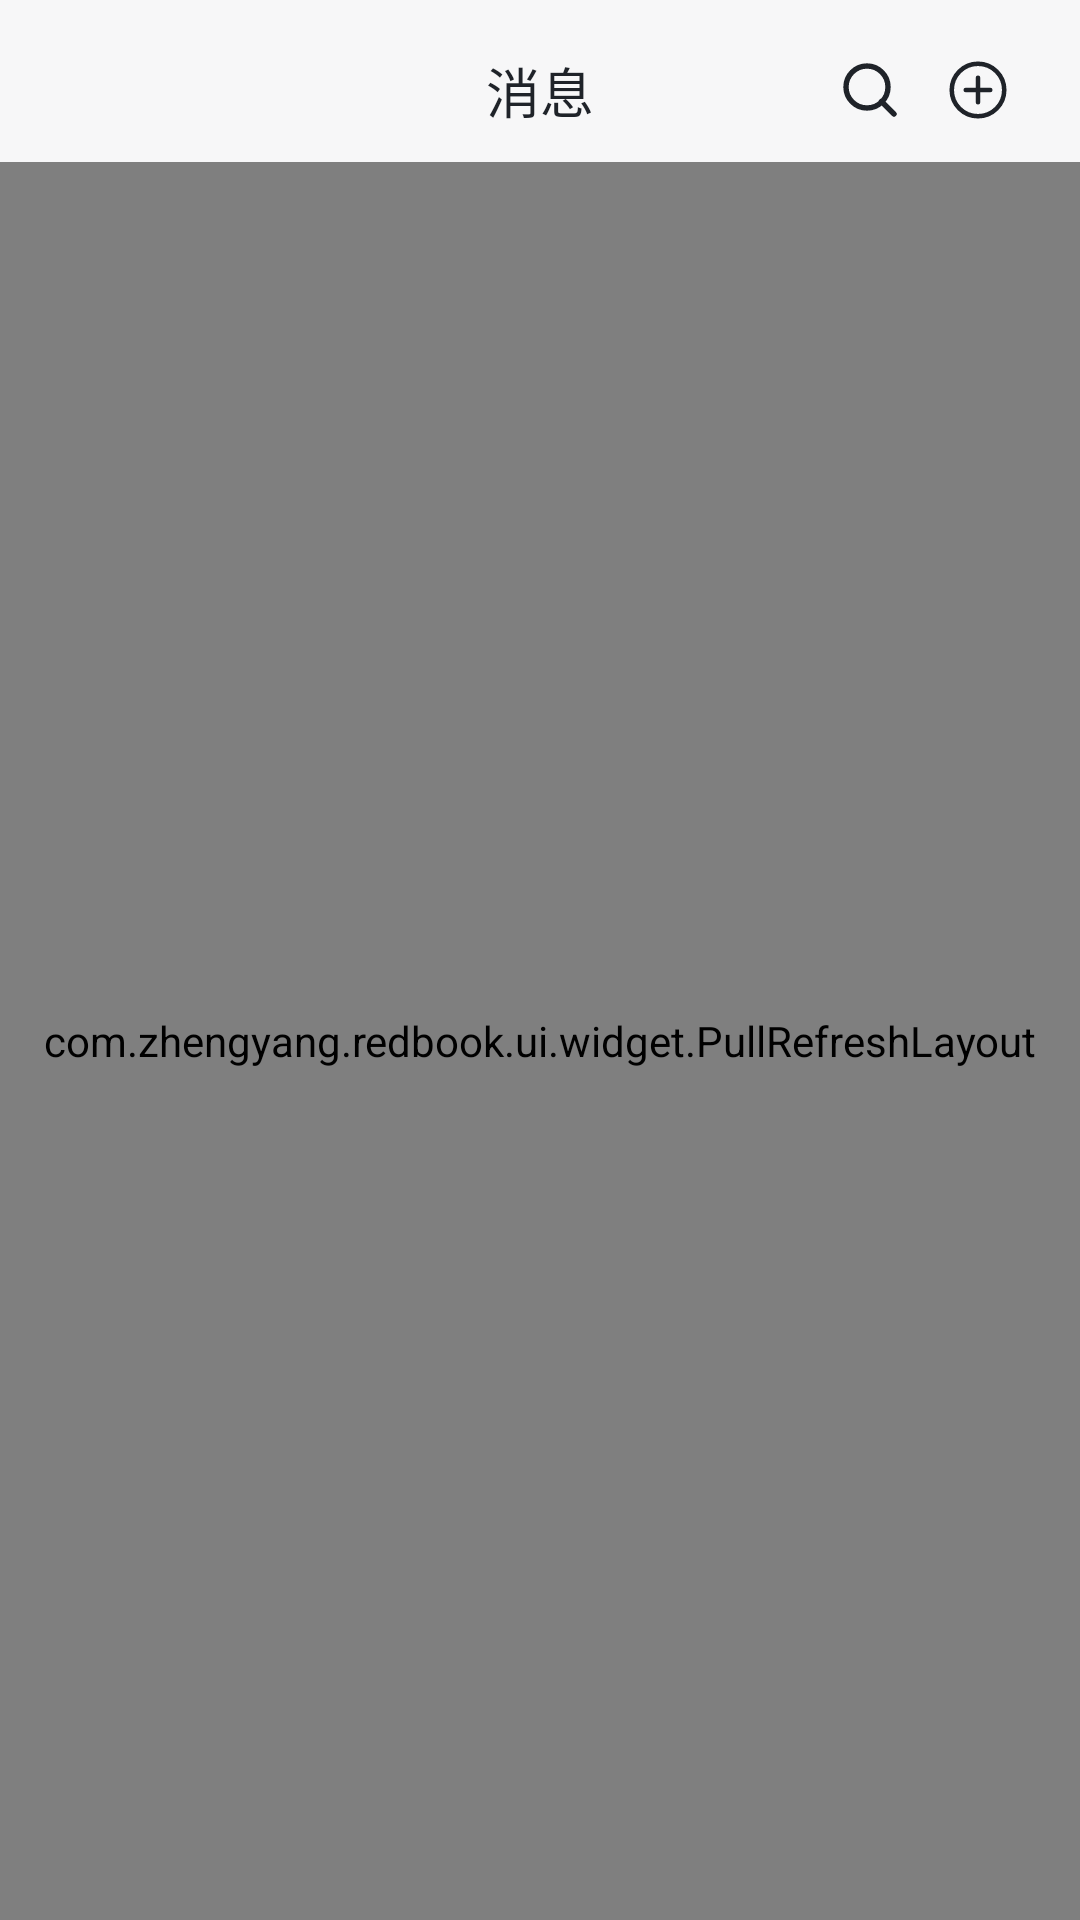

Icon bounding boxes for this 1080*1920 phone screenshot, format (x1, y1, x2, y2):
xhs plus circle: (949, 61, 1007, 119)
搜索: (843, 63, 897, 117)
